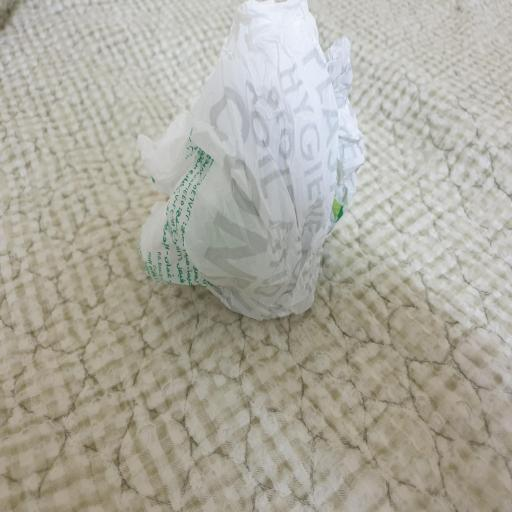plastic bag: (129, 0, 377, 341)
